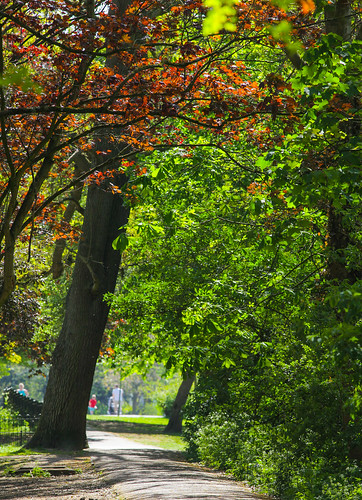vegetation: (1, 1, 362, 445)
